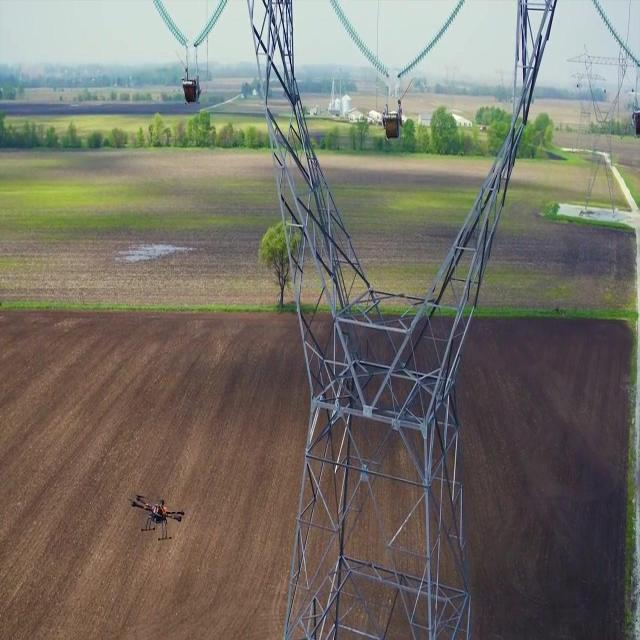drone: (128, 490, 188, 546)
